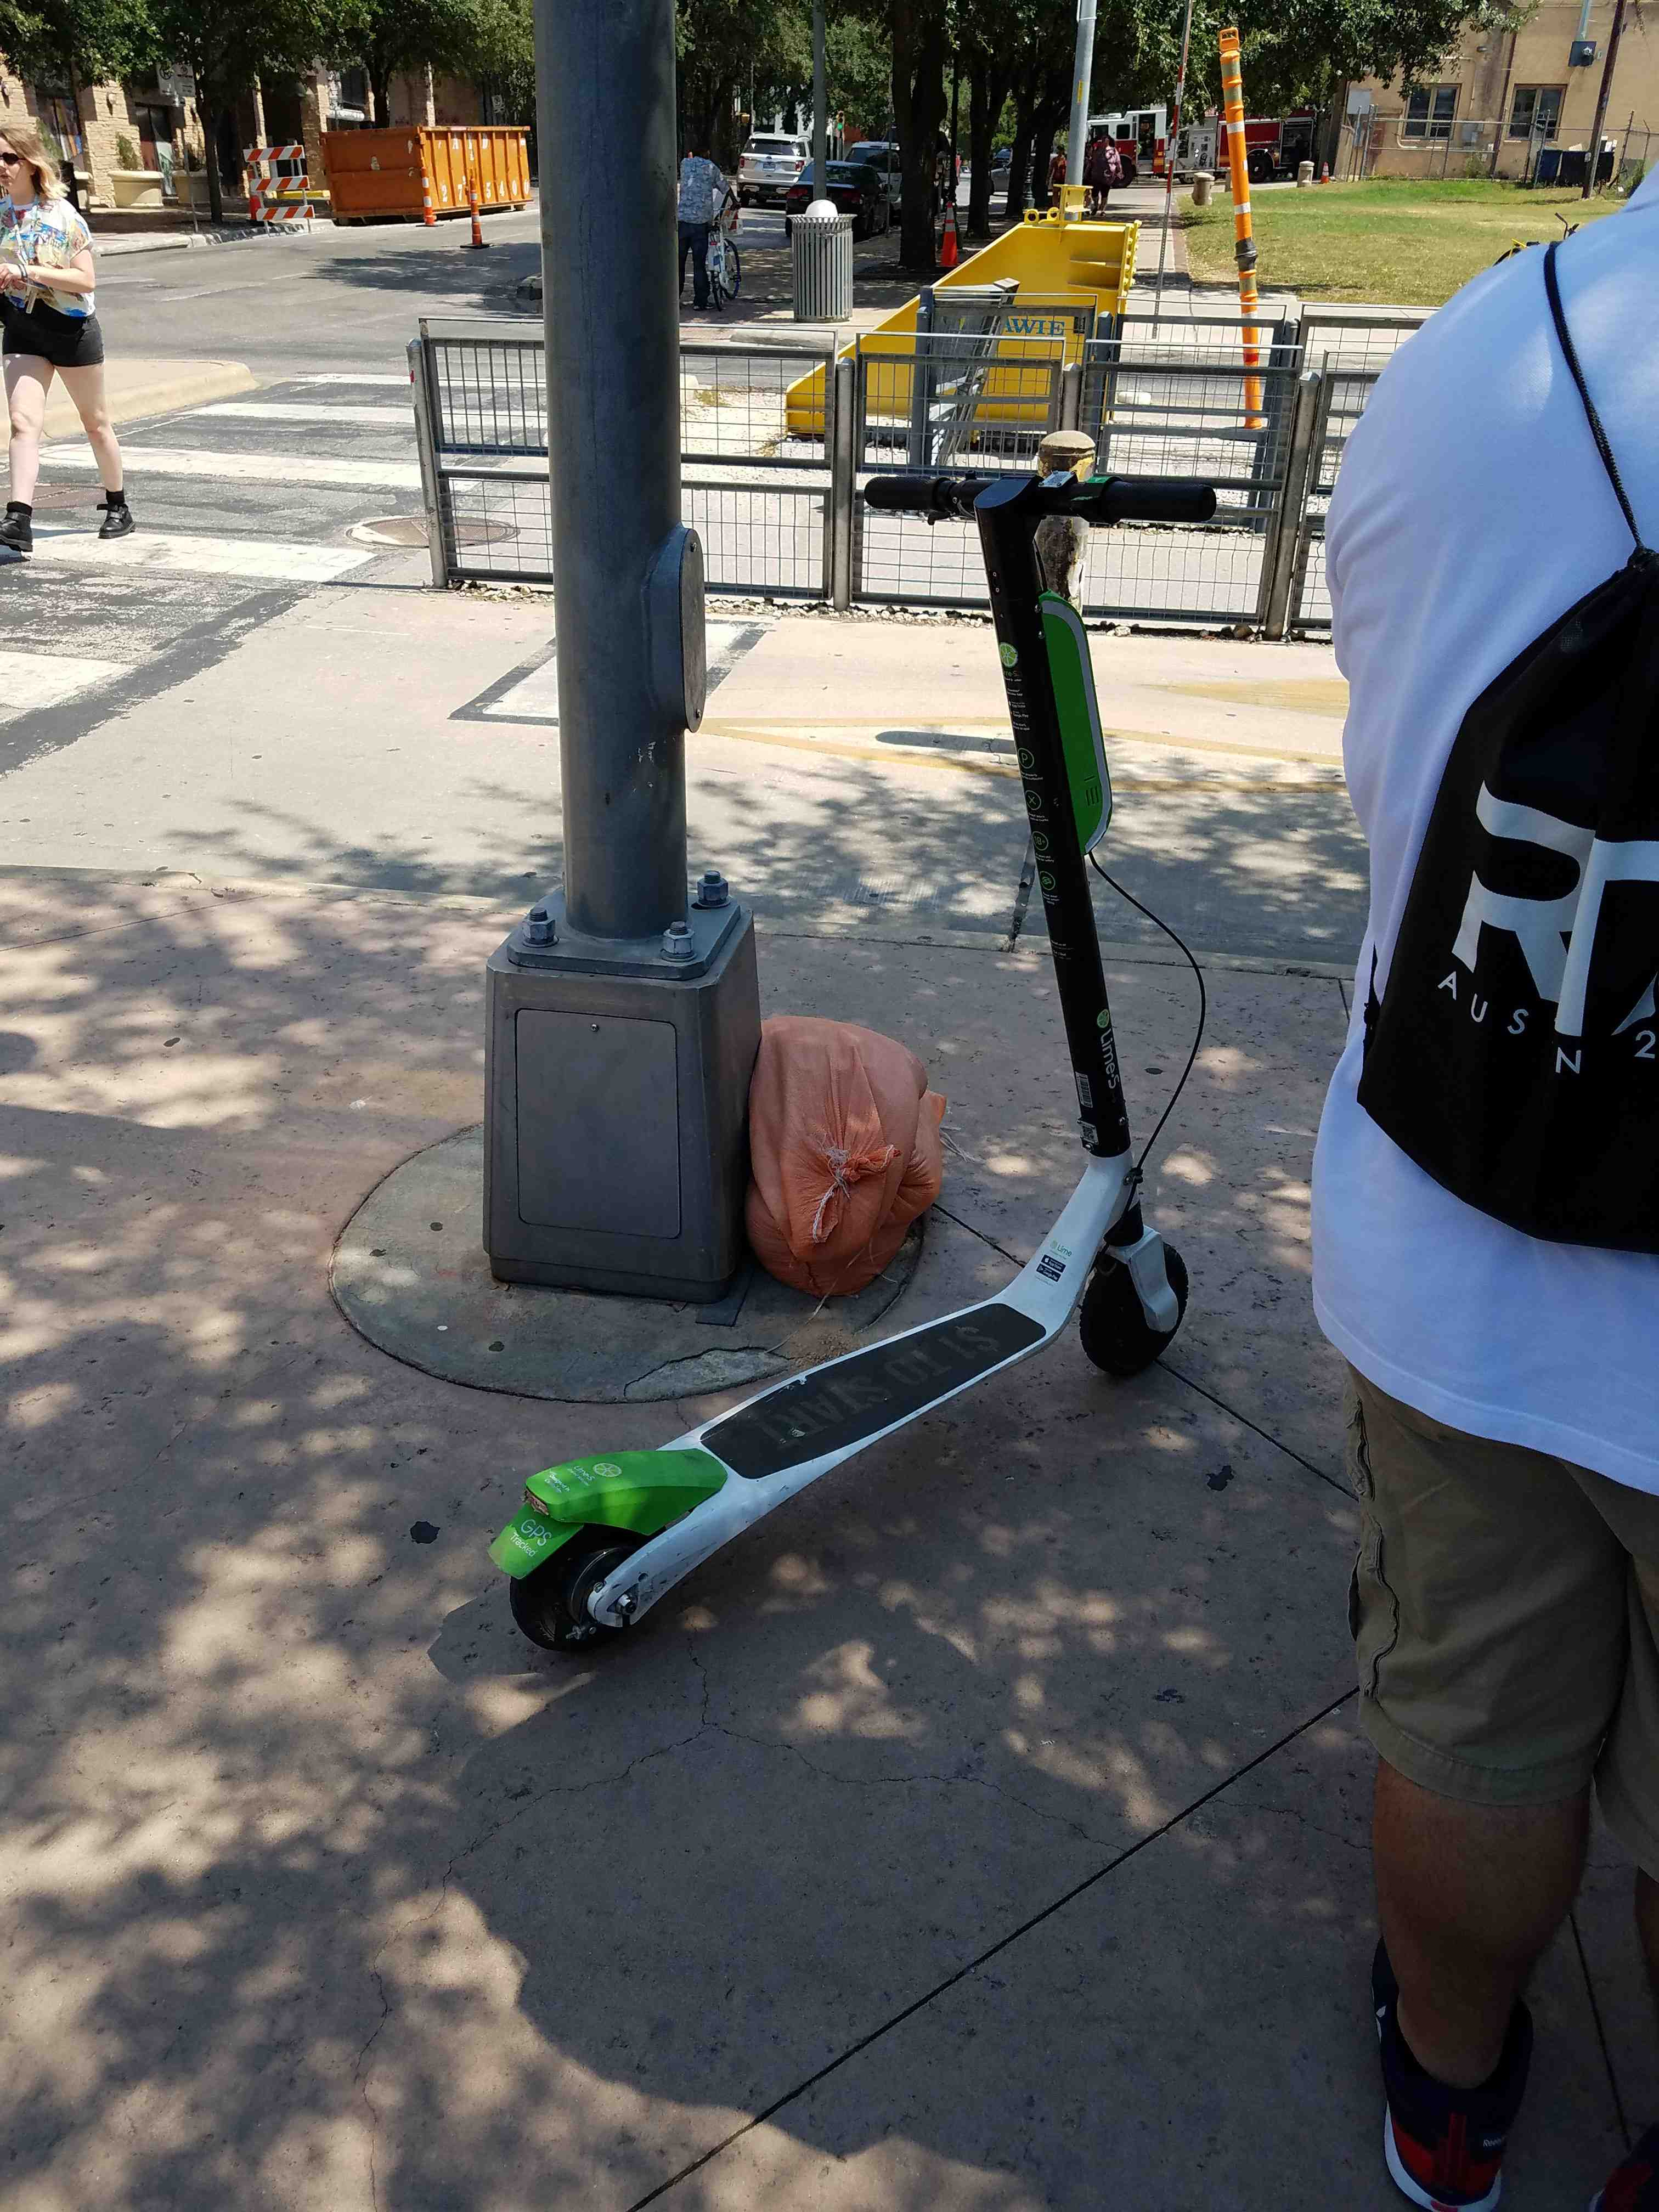scooter: (486, 444, 1258, 1710)
